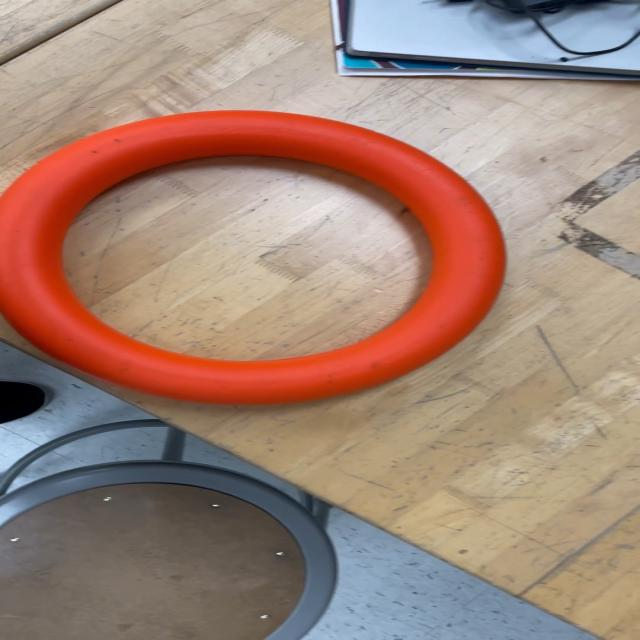note: (2, 109, 511, 406)
